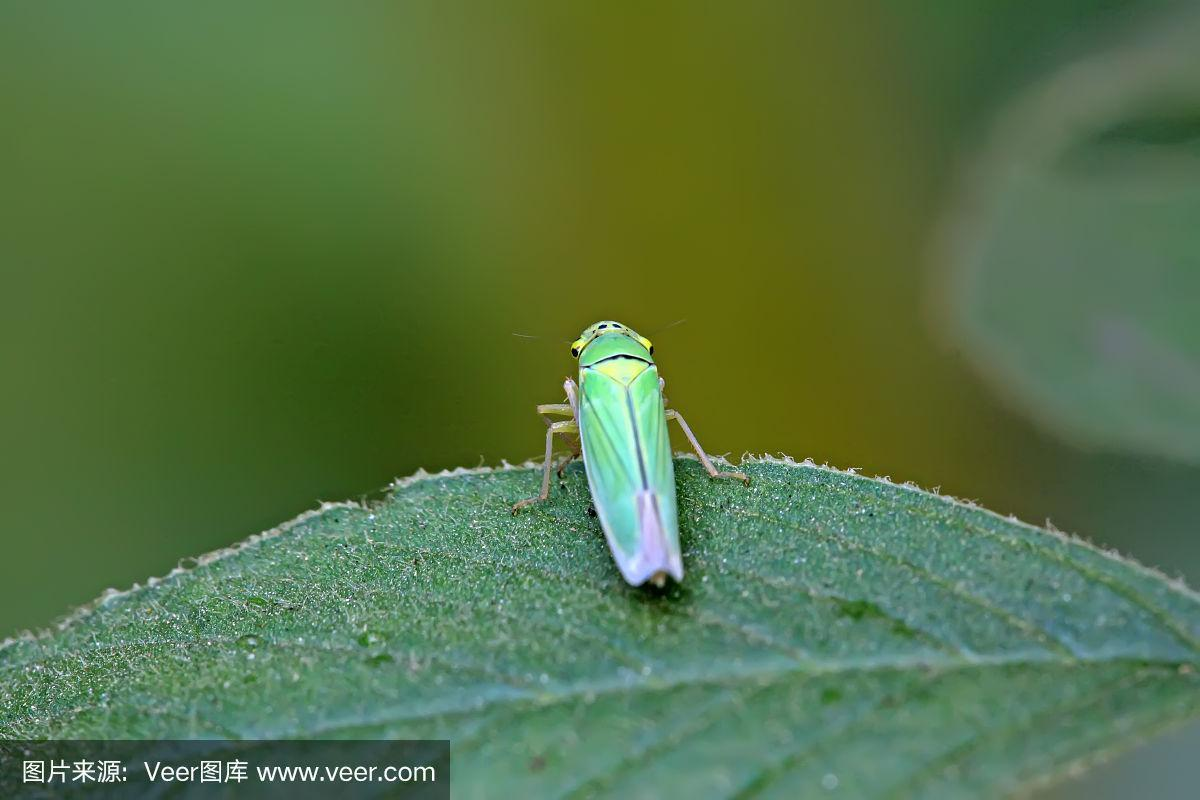Cicadellidae: (518, 317, 749, 588)
